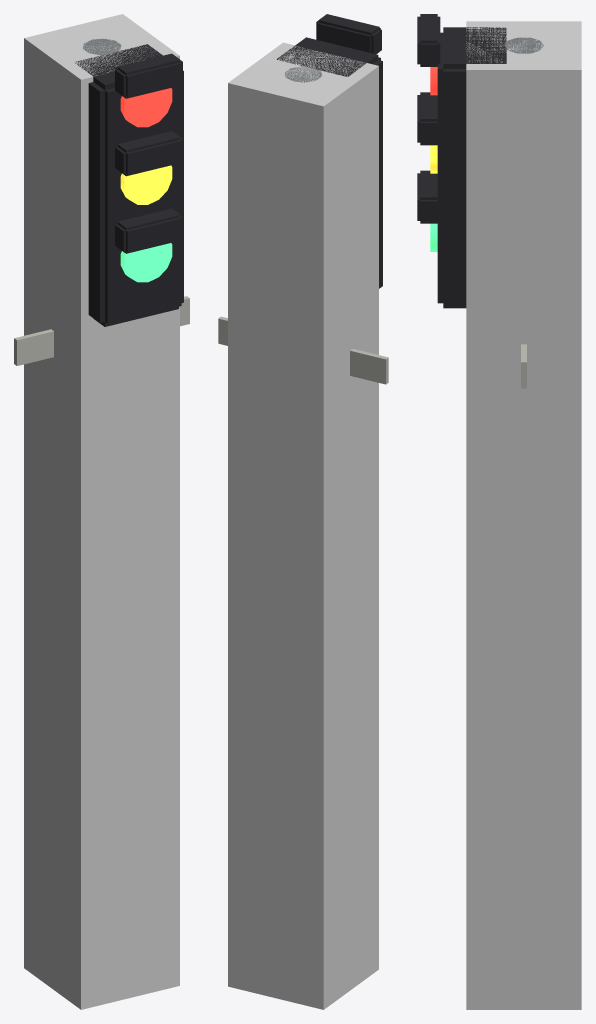
The model's file is traffic_light_car.glb.
The picture shows the model from 3 angles, left to right: view 1: azimuth 30°, elevation 25°; view 2: azimuth 150°, elevation 25°; view 3: azimuth 270°, elevation 25°; orthographic projection. The views are drawn at different scales.
Visible parts, largest first — view 1: traffic_light-col, light_mesh; view 2: traffic_light-col, light_mesh; view 3: traffic_light-col, light_mesh.
Boxes of the visible parts, left/top/right/bottom form: traffic_light-col: left=24, top=14, right=179, bottom=1009; light_mesh: left=14, top=38, right=189, bottom=365; traffic_light-col: left=228, top=42, right=378, bottom=1009; light_mesh: left=218, top=14, right=388, bottom=384; traffic_light-col: left=466, top=21, right=581, bottom=1009; light_mesh: left=417, top=14, right=543, bottom=388.
Size of the model in its own units: 0.7 by 3.67 by 0.57.
